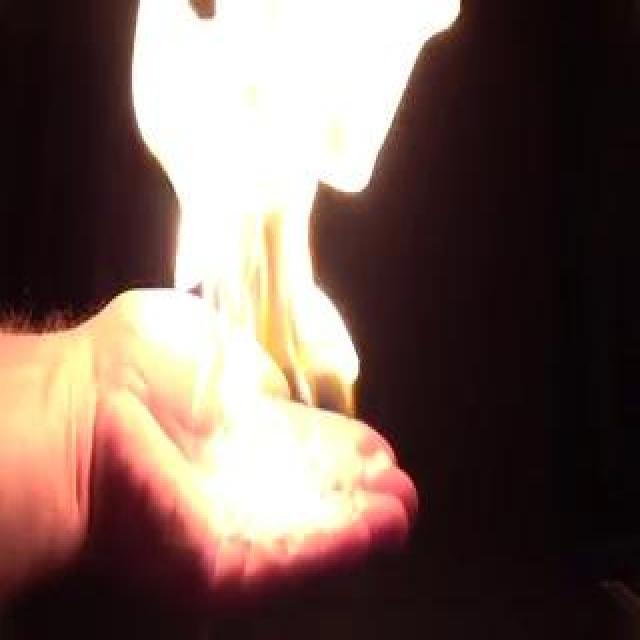Fire: (168, 3, 398, 541)
